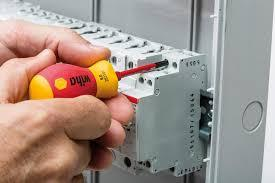screwdriver: (28, 57, 169, 100)
